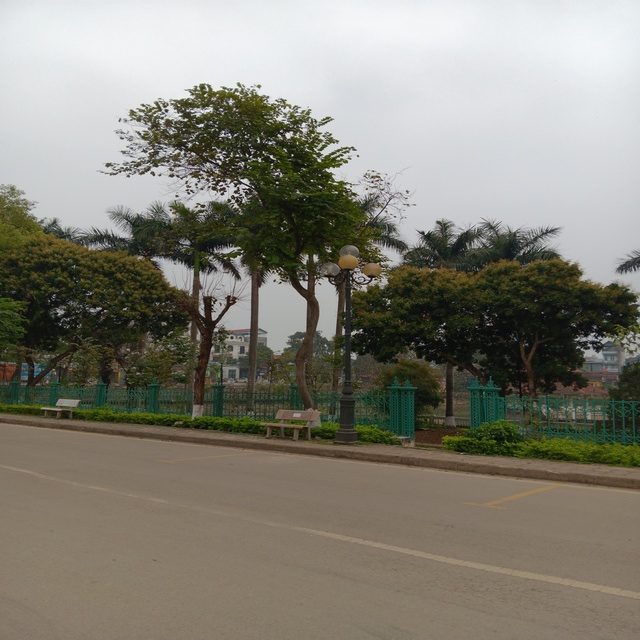gheda: (256, 406, 337, 445), (39, 391, 82, 419)
